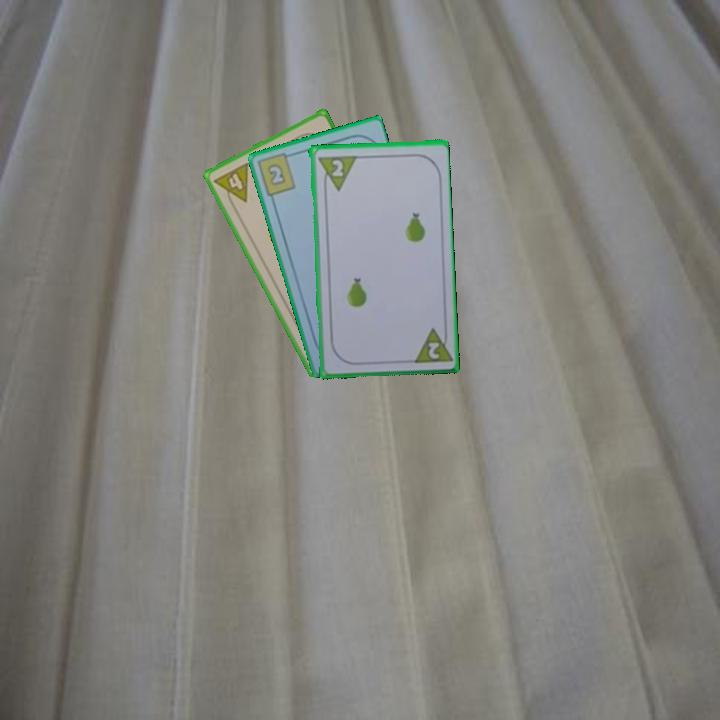2b: (254, 149, 298, 199)
2p: (409, 323, 453, 366), (328, 156, 346, 179)
4p: (210, 159, 251, 211)
